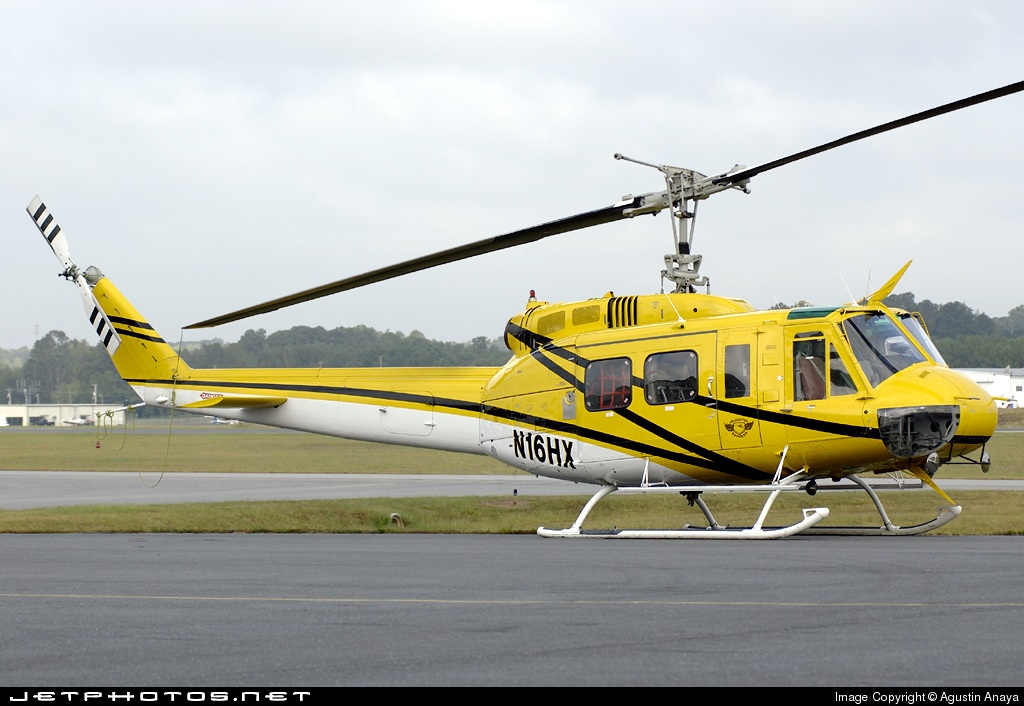number: (504, 425, 581, 475)
